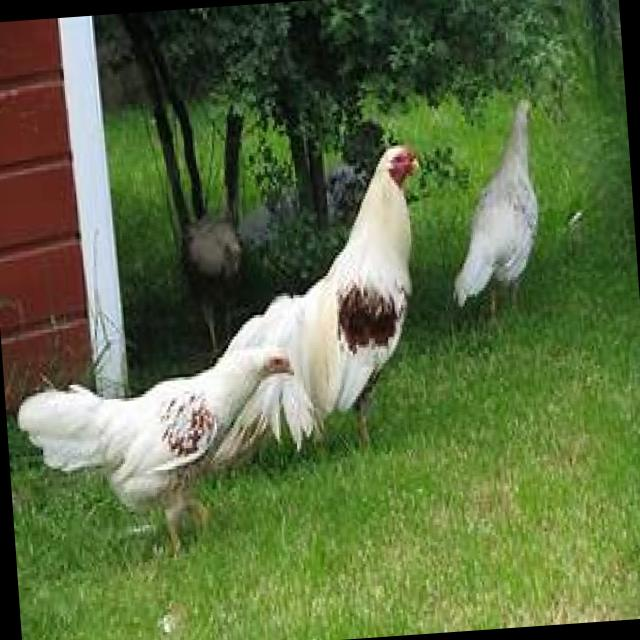animal: (180, 143, 438, 489), (16, 338, 306, 564), (437, 93, 546, 324)
